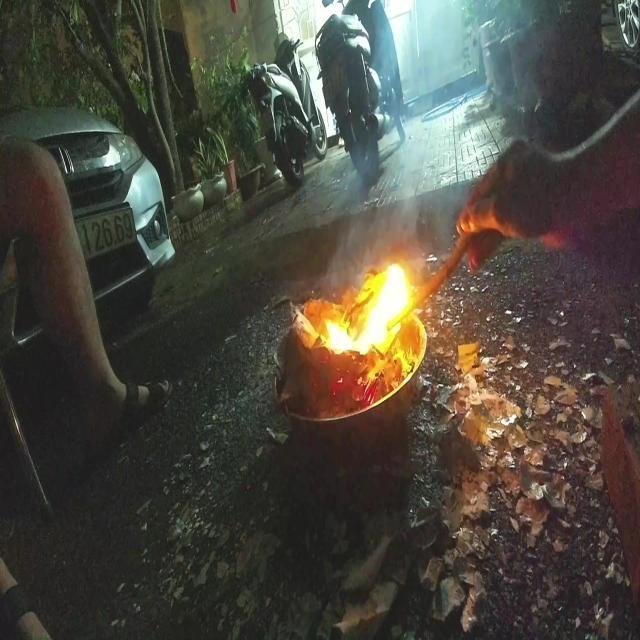Fire: (298, 261, 426, 398)
Smoke: (329, 180, 432, 304)
